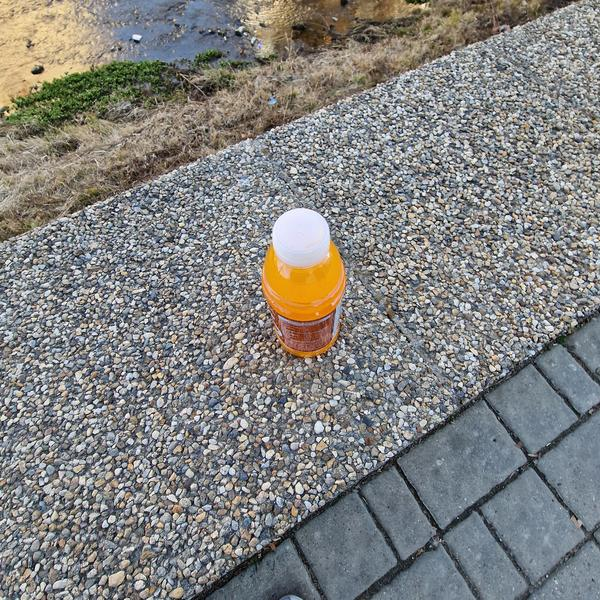plastic_bottle: (256, 205, 351, 361)
